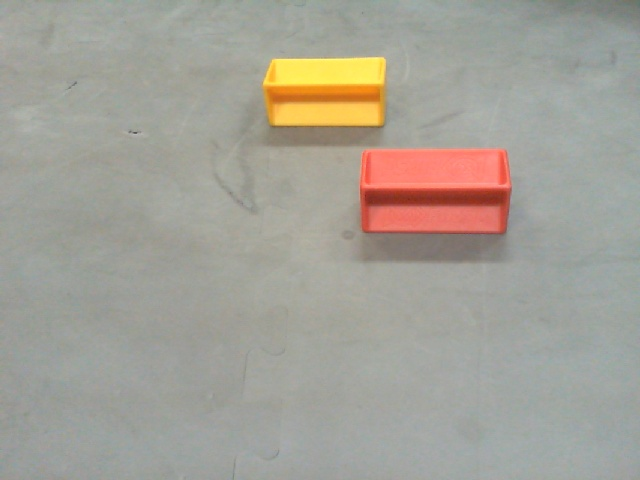RedSample: (360, 144, 512, 235)
YellowSample: (261, 55, 387, 131)
